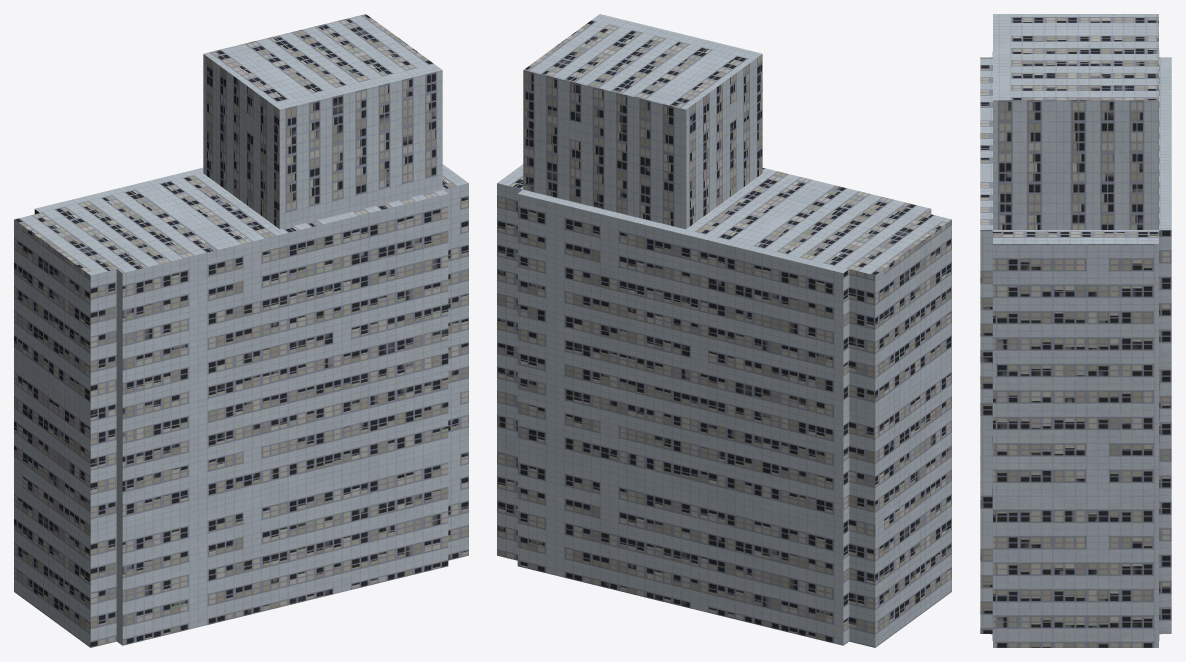
Rendered from la-tower-f.glb.
3 renders of one model, left to right at view 1: azimuth 30°, elevation 25°; view 2: azimuth 150°, elevation 25°; view 3: azimuth 270°, elevation 25°, orthographic. The views are drawn at different scales.
Parts seen in each view (by area): view 1: tower-f; view 2: tower-f; view 3: tower-f.
Part boxes in pixels (<box>): tower-f: <box>14,14,468,647</box>; tower-f: <box>497,14,951,647</box>; tower-f: <box>980,14,1171,647</box>.
Bounding box in the file's own units: 149 × 185 × 60.07.
1 material, 1 textured.
